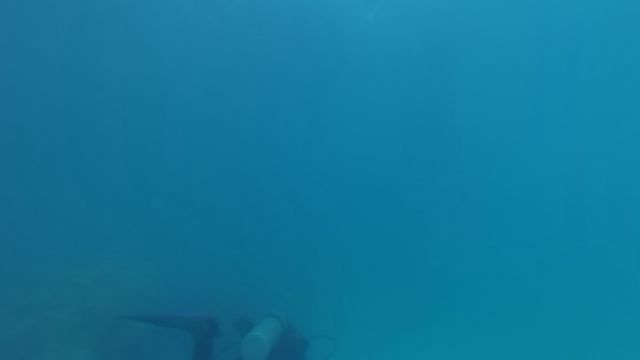Diver: (95, 300, 370, 355)
